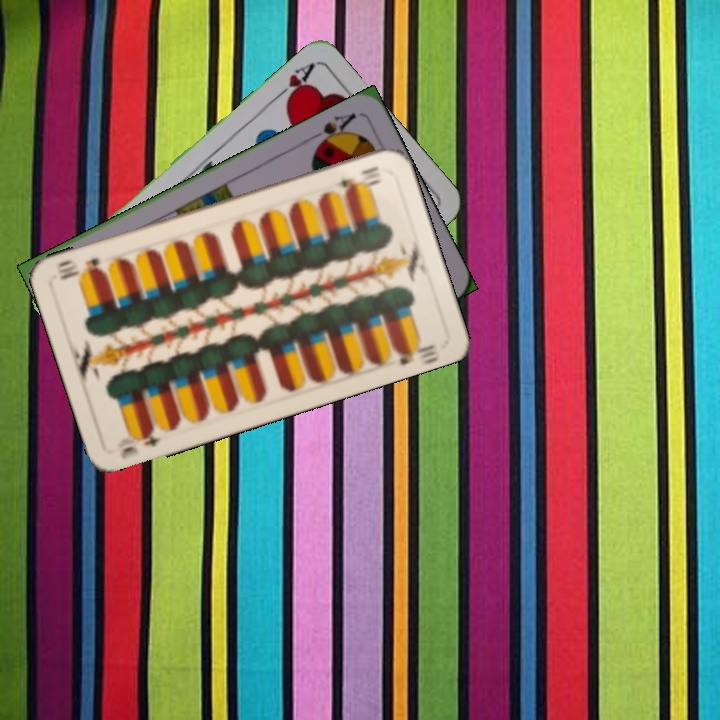E10: (116, 423, 165, 462), (336, 162, 383, 193)
HA: (268, 59, 317, 108)
SA: (305, 109, 359, 152)
